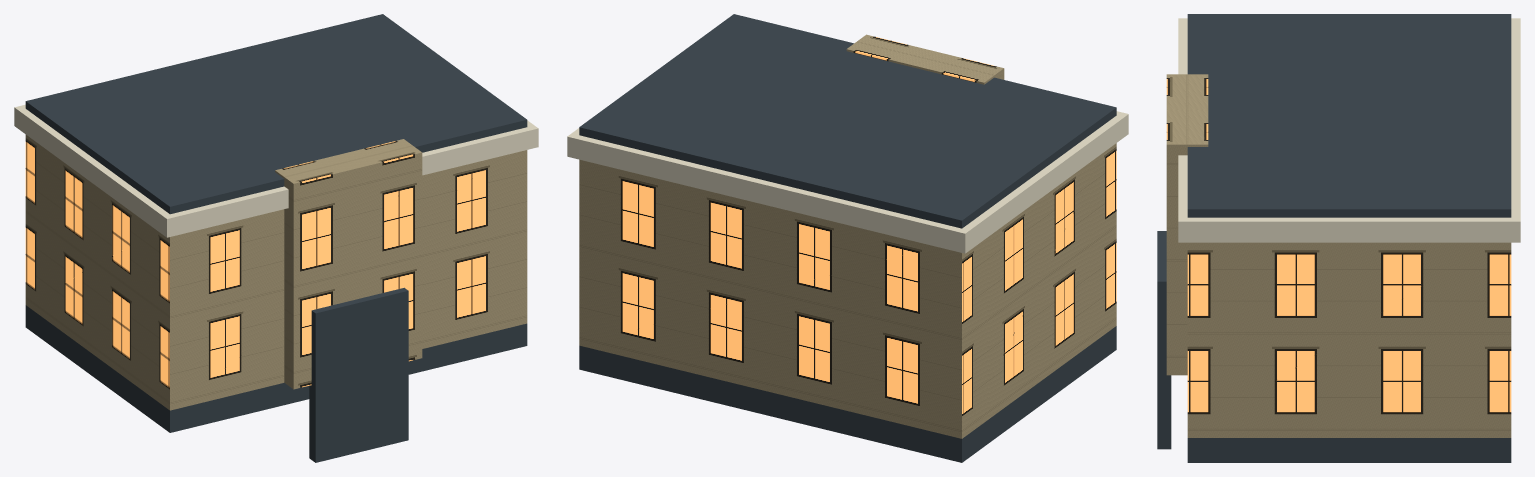
File: civic.glb
3 views of the same model, side by side, from view 1: azimuth 30°, elevation 25°; view 2: azimuth 150°, elevation 25°; view 3: azimuth 270°, elevation 25° (orthographic). The views are drawn at different scales.
Visible parts, largest first — view 1: civic; view 2: civic; view 3: civic.
Boxes of the visible parts, box(x1,y1,x2,y2) form: civic: box(14, 14, 538, 462); civic: box(567, 14, 1128, 462); civic: box(1157, 14, 1520, 462).
Bounding box in the file's own units: 10.4 × 7.5 × 7.85.
3 materials, 1 textured.
